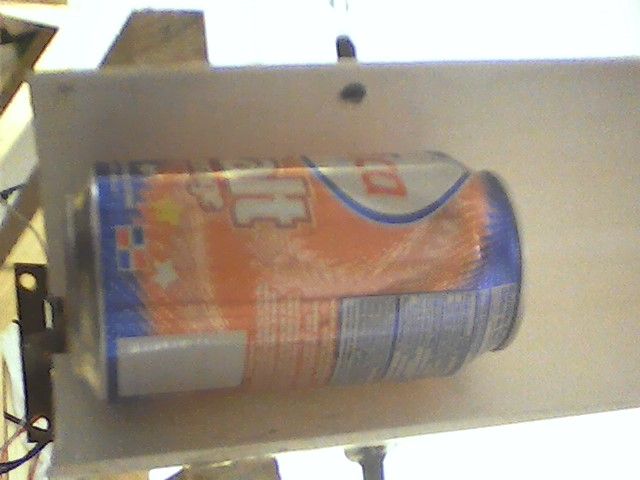lata: (60, 146, 539, 403)
